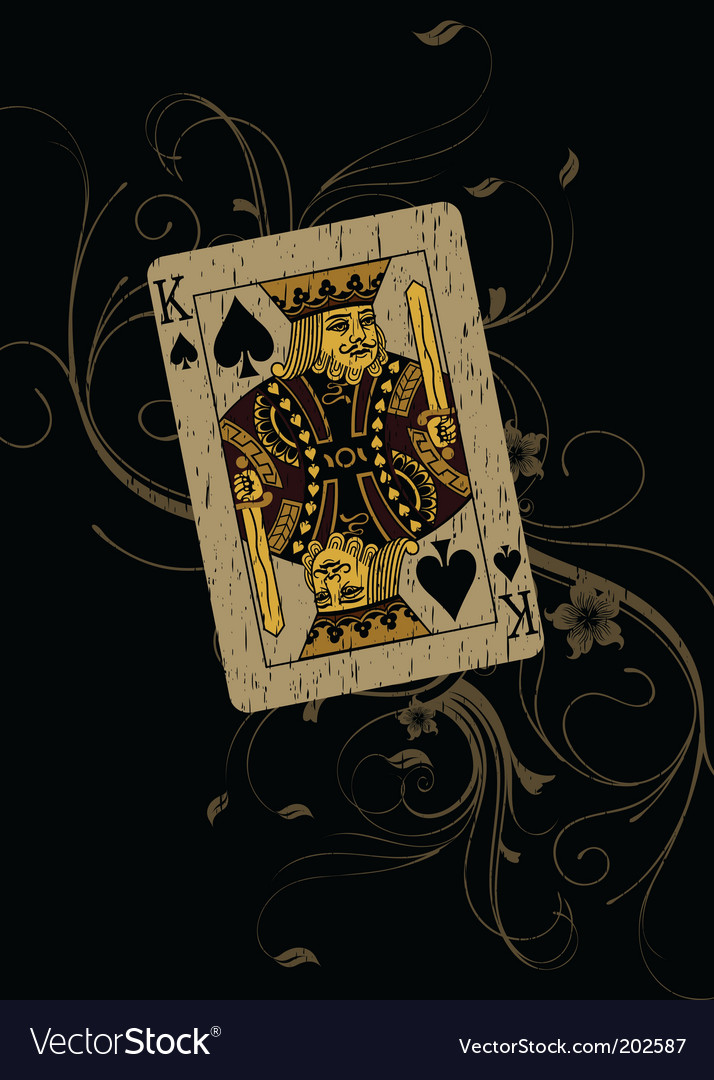king of spades: (151, 194, 546, 710)
